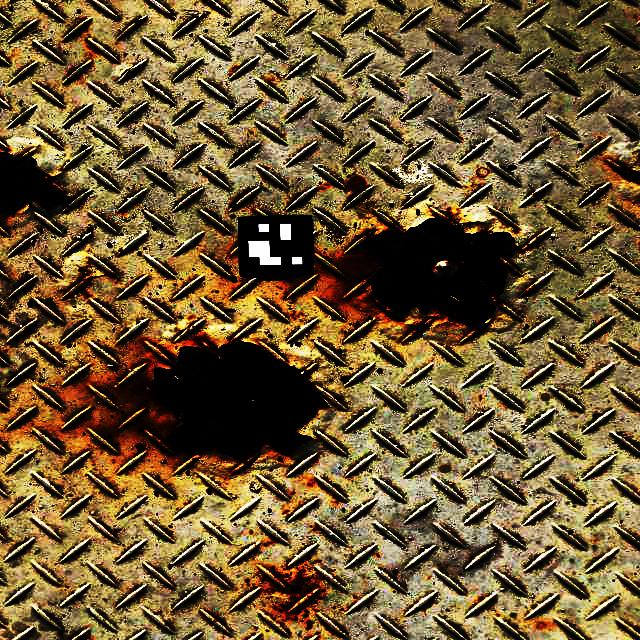Corrosion: (151, 340, 328, 476), (338, 218, 520, 335), (0, 146, 71, 218), (617, 168, 640, 185), (536, 190, 540, 198)
